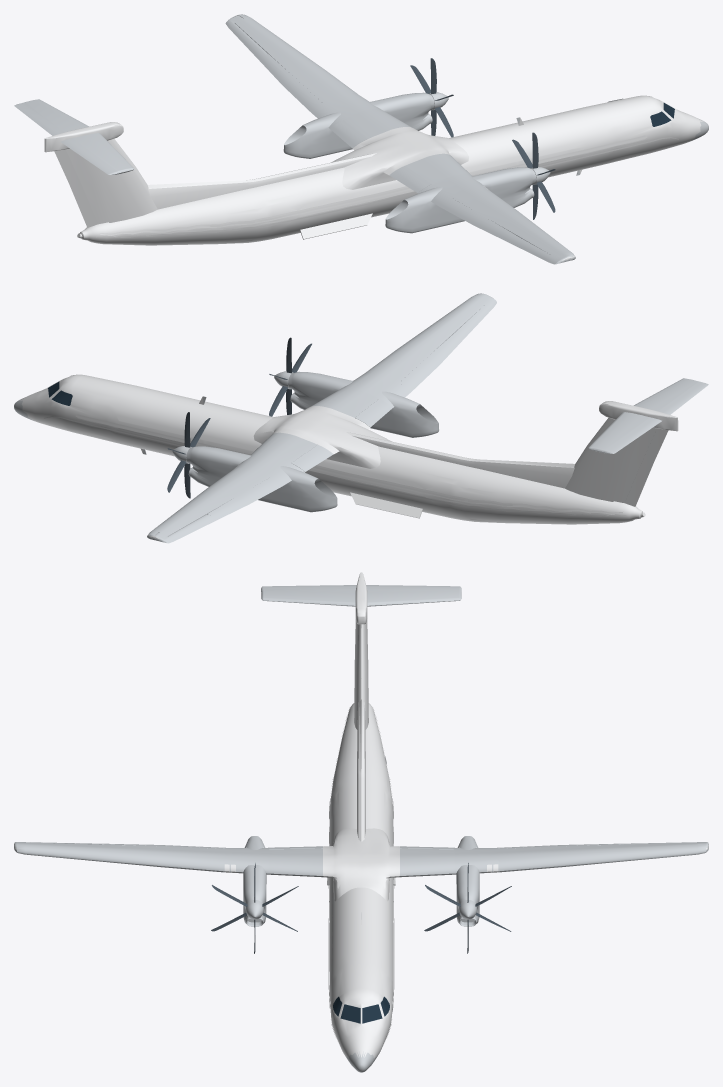
The picture shows the model from 3 angles, top to bottom: view 1: azimuth 30°, elevation 25°; view 2: azimuth 150°, elevation 25°; view 3: azimuth 270°, elevation 25°; orthographic projection. The views are drawn at different scales.
Visible parts, largest first — view 1: hull, wing, tail, band-cheatline, propeller (×2), band-belly-trim, band-cheatline-trim, band-tailcone-trim; view 2: hull, wing, tail, band-cheatline, propeller (×2), band-belly-trim, band-cheatline-trim, band-tailcone-trim; view 3: wing, hull, tail, glass.
Part boxes in pixels (x1,y1,x2,y2): hull: (79,94,703,245); wing: (14,14,708,264); tail: (44,15,574,260); band-cheatline: (99,135,645,235); propeller (×2): (410,58,555,219); band-belly-trim: (96,137,678,237); band-cheatline-trim: (103,139,648,236); band-tailcone-trim: (210,136,647,226); hull: (19,373,643,524); wing: (14,293,708,543); tail: (148,401,678,538); band-cheatline: (77,414,622,514); propeller (×2): (167,337,311,498); band-belly-trim: (44,416,626,516); band-cheatline-trim: (74,418,618,515); band-tailcone-trim: (75,415,512,505); wing: (14,585,708,1072); hull: (224,703,498,1058); tail: (14,572,708,849); glass: (333,996,389,1023).
Size of the model in its own units: 32.8 by 7.88 by 28.4.
